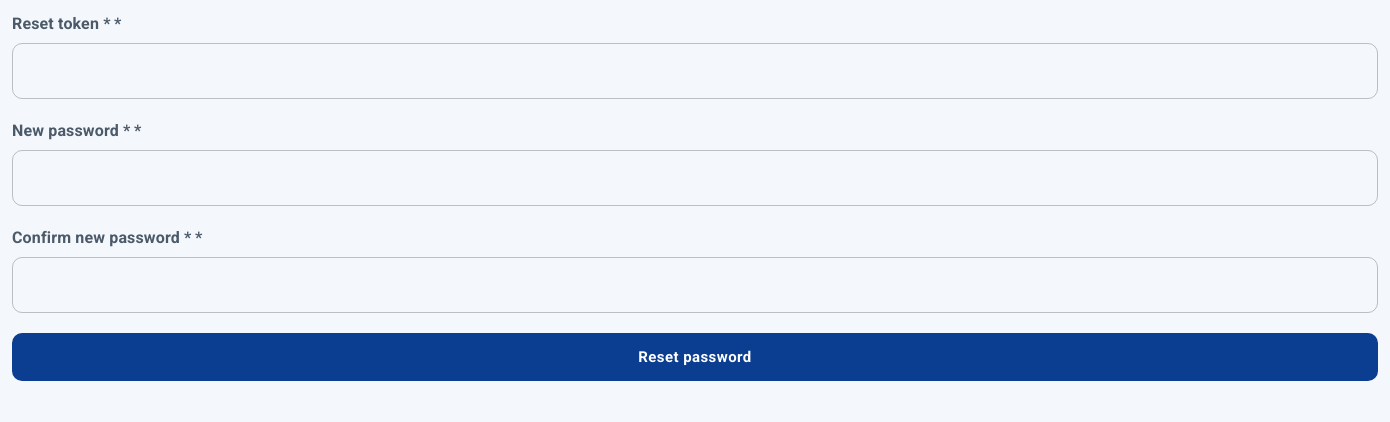
Test: ResetPasswordForm › shows an error for a weak password
Type "reset-token-123" into the field labelled "Reset token * *" at point(695, 71), box [12,43,1378,99]
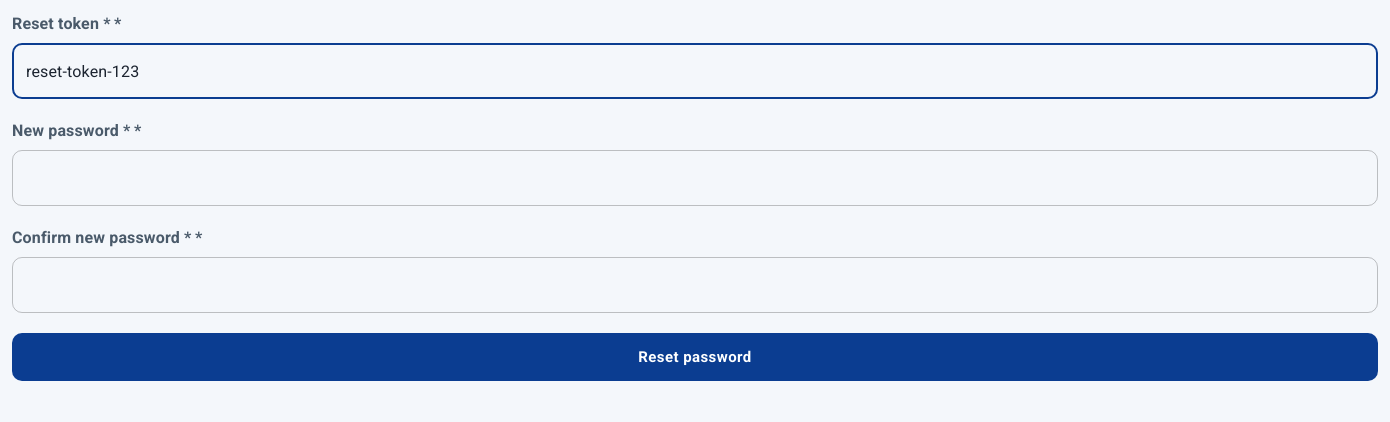
Type "short" into the password field labelled "New password * *" at point(695, 178), box [12,150,1378,206]
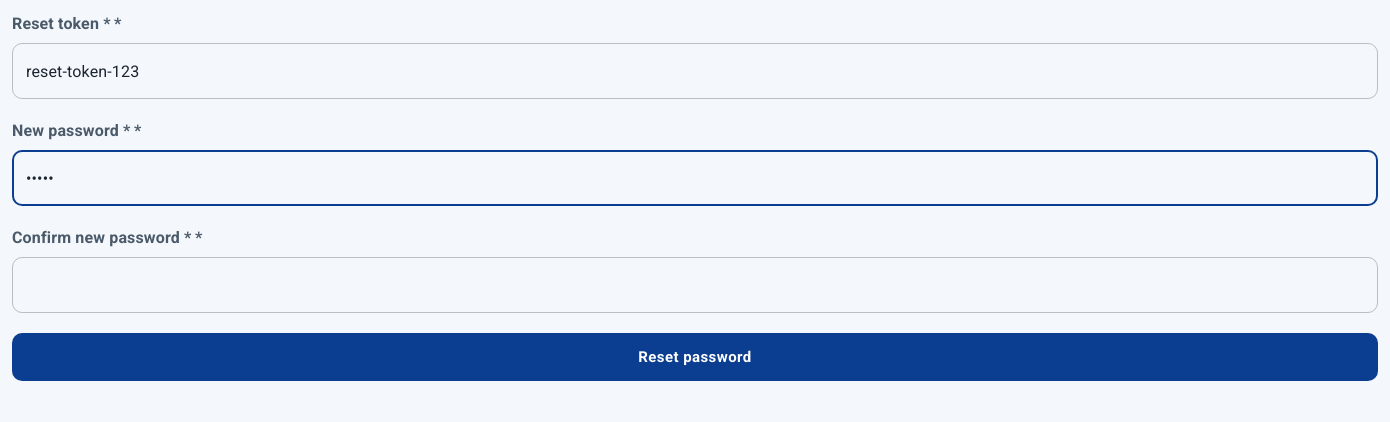
Type "short" into the password field labelled "Confirm new password * *" at point(695, 285), box [12,257,1378,313]
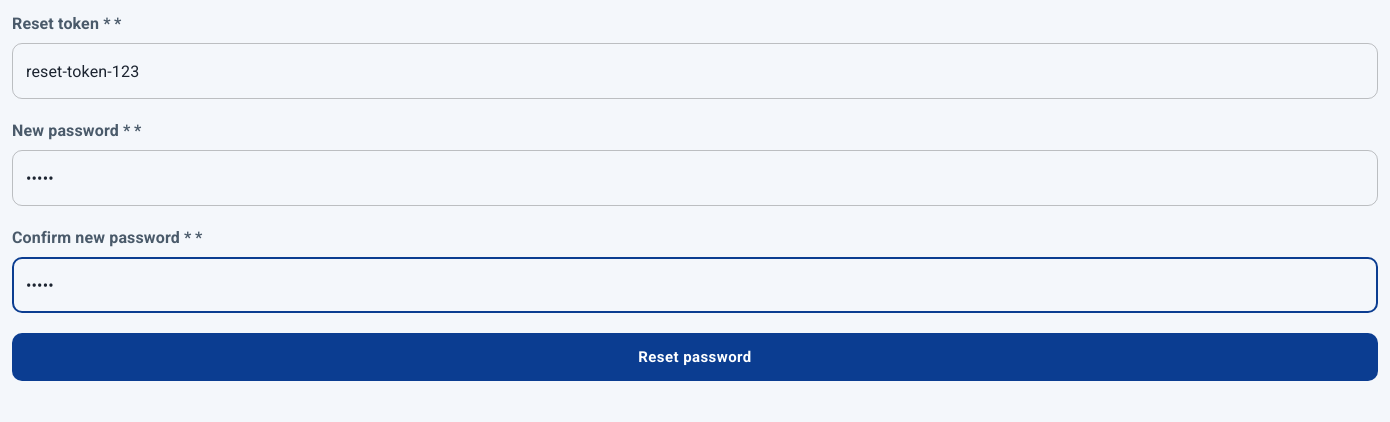
Click the button "Reset password" at point(695, 357), box [12,333,1378,381]
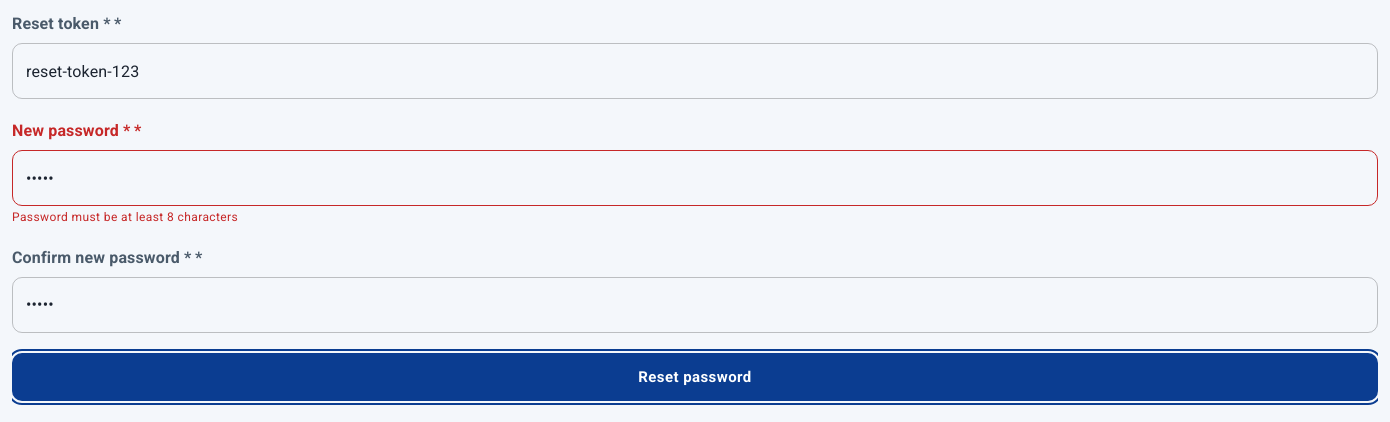
Expected: the text "Password must be at least 8 characters" is shown, [12,210,238,224]
